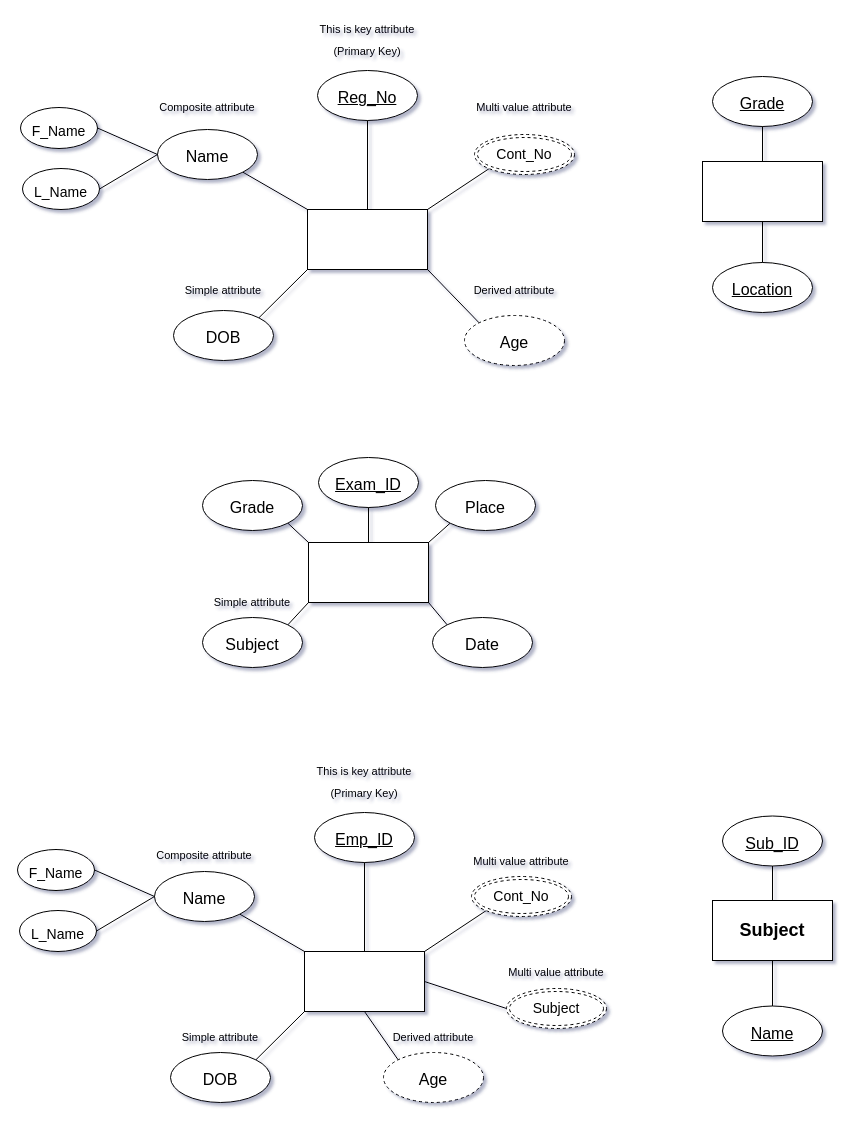
Some shapes in this 856 by 1126 pixel diagram are drawn without their labels. Each missing label, with the centre of its shape:
Class: the point at 762,191
Exam: the point at 368,572
Student: the point at 367,239
Teacher: the point at 364,981
